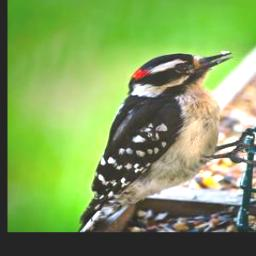Woodpecker: (77, 50, 256, 231)
